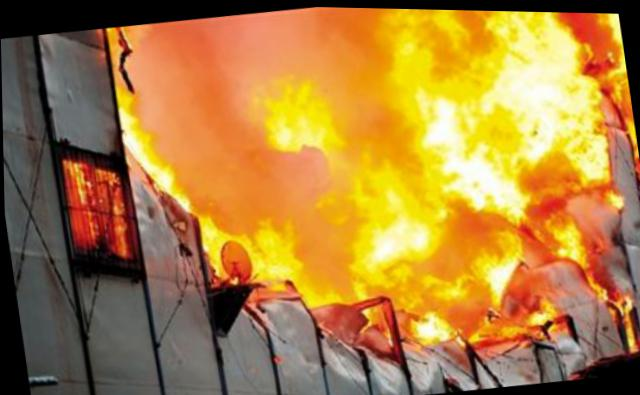fire: (370, 6, 605, 163), (339, 152, 444, 264), (247, 72, 343, 157), (432, 146, 525, 224), (240, 218, 299, 284), (587, 10, 629, 98), (537, 201, 588, 264), (345, 256, 409, 296), (403, 303, 459, 345), (412, 266, 475, 302), (564, 135, 608, 184), (195, 211, 225, 276), (113, 88, 141, 152), (474, 253, 518, 292), (297, 275, 342, 305), (138, 150, 172, 186), (519, 300, 554, 323)
